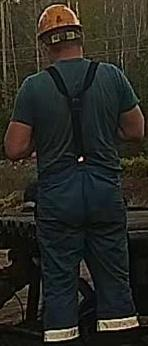helmet: (36, 3, 83, 42)
